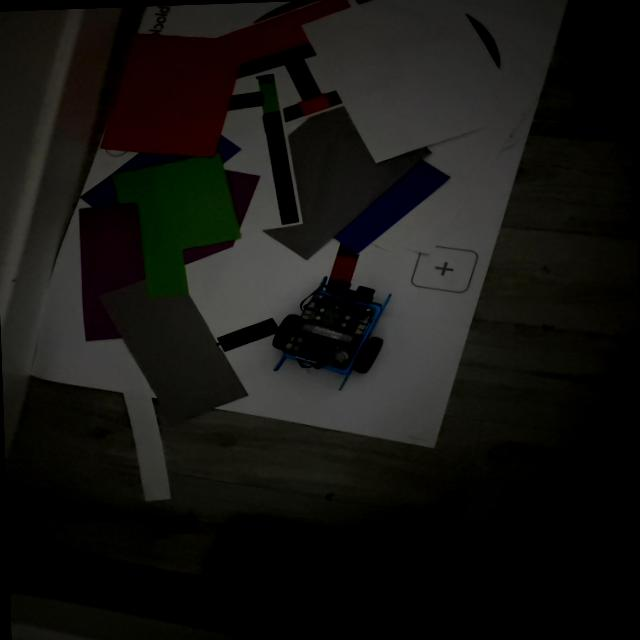mbot-detection: (260, 270, 404, 397)
